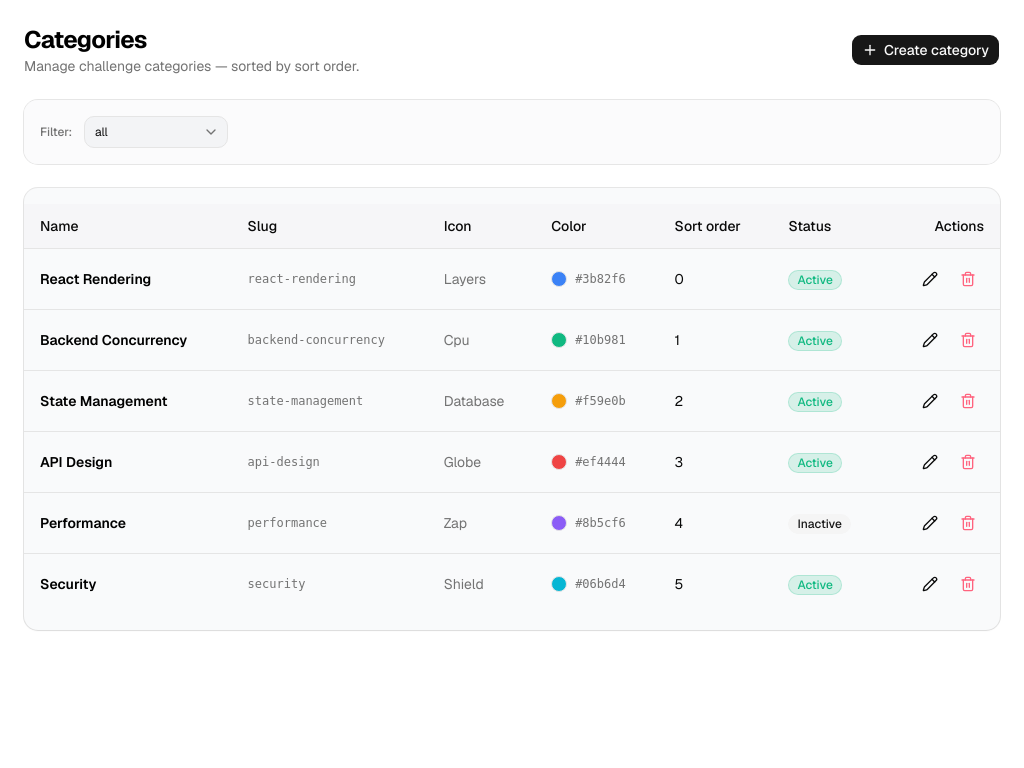
Test case: CategoryManagement › delete handles 409 and shows error alert
Click the button named "Delete React Rendering" at (968, 279), box [952,263,984,295]
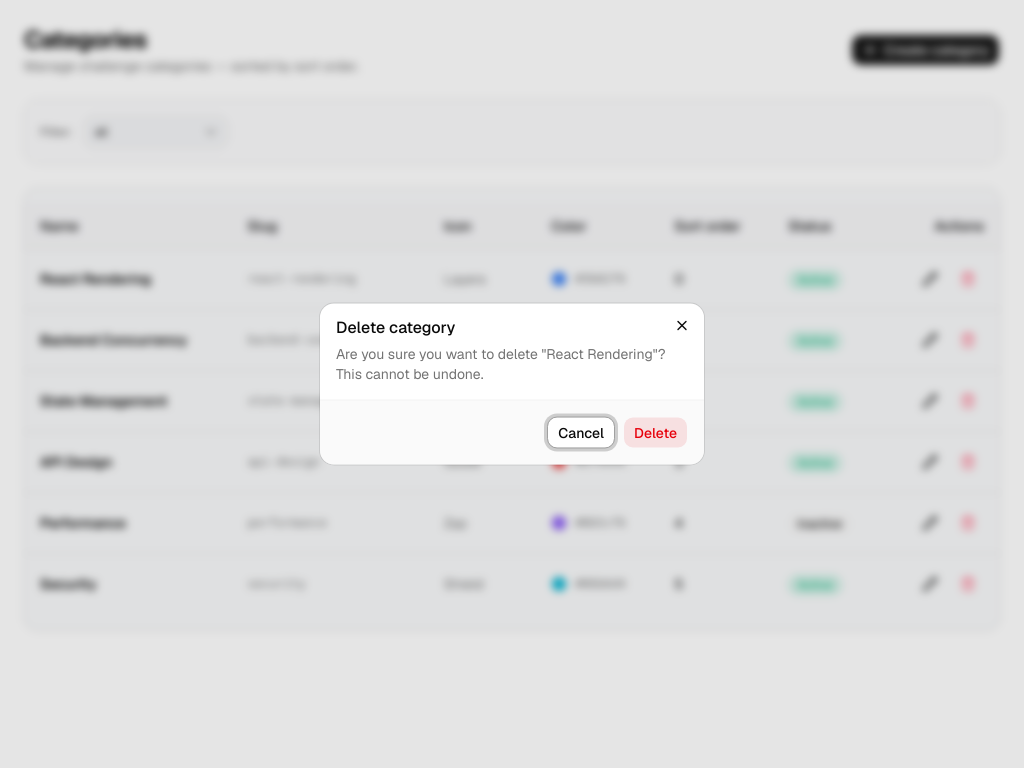
Now the text "Are you sure you want to delete" is shown, box [336,344,666,382]
Click the button "Delete" at (655, 432), box [623,416,688,448]
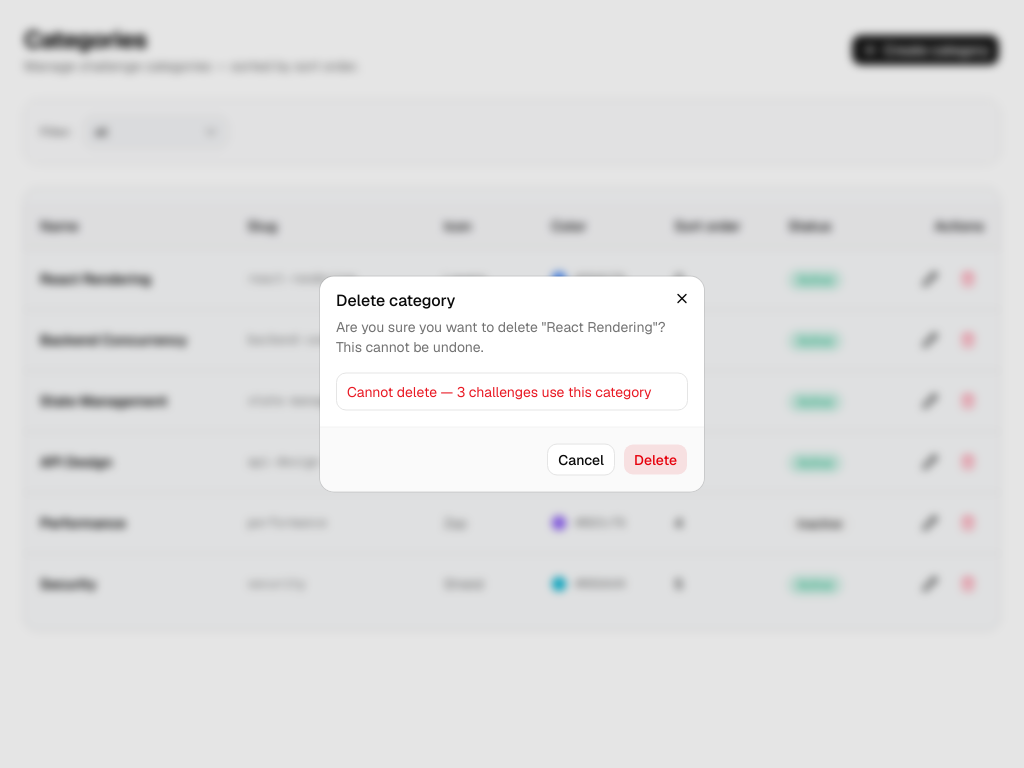
Expected: the text "React Rendering" is shown, [24,248,232,310]
Now the text "Cannot delete — 3 challenges use this category" is shown, box [347,382,677,402]
